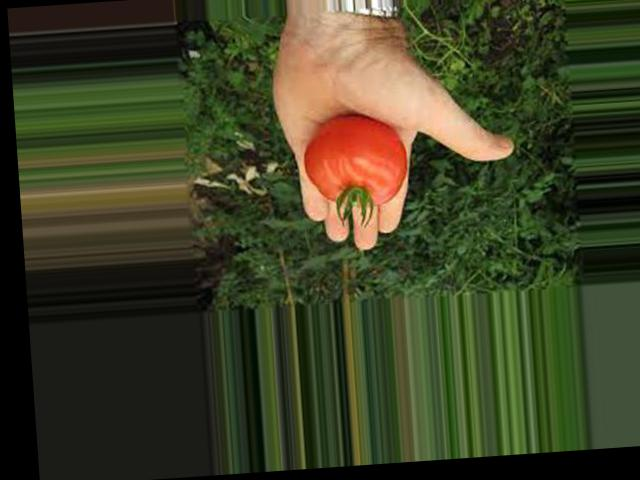tomato: (300, 111, 410, 208)
